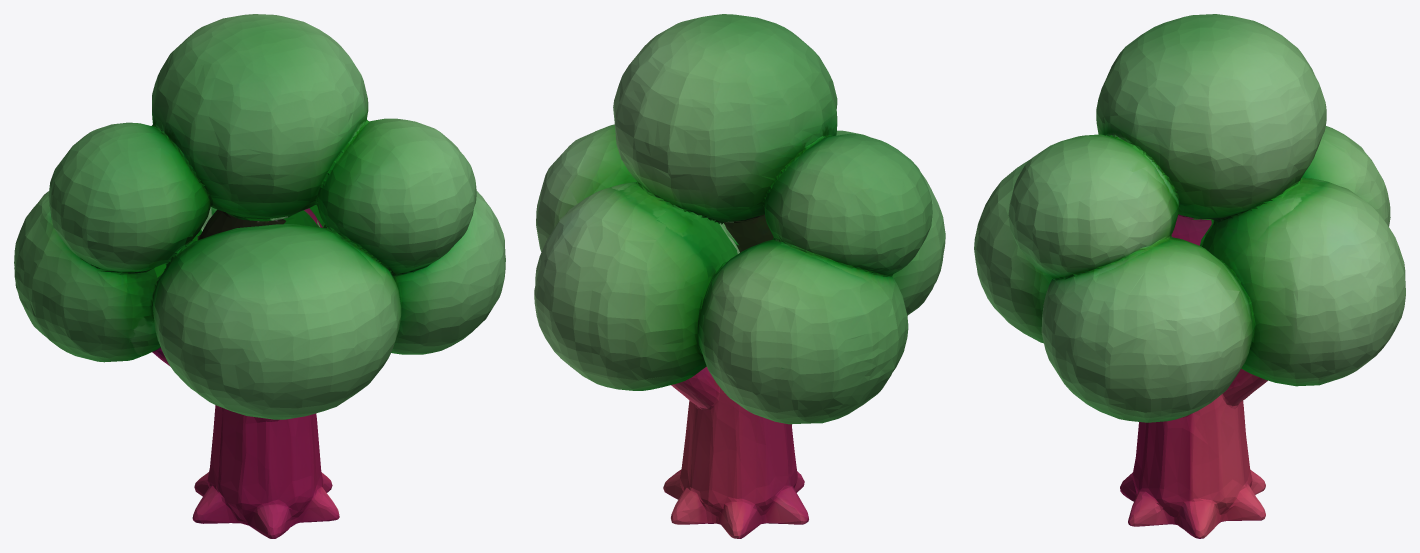
Rendered from arbol_03.glb.
3 renders of one model, left to right at view 1: azimuth 30°, elevation 25°; view 2: azimuth 150°, elevation 25°; view 3: azimuth 270°, elevation 25°, orthographic. The views are drawn at different scales.
Parts seen in each view (by area): view 1: arbol_03; view 2: arbol_03; view 3: arbol_03.
Boxes of the visible parts, box(x1,y1,x2,y2) form: arbol_03: box(14, 14, 505, 538); arbol_03: box(534, 14, 945, 538); arbol_03: box(974, 14, 1405, 538).
Size of the model in its own units: 1.73 by 1.96 by 1.6.
1 material, 1 textured.
